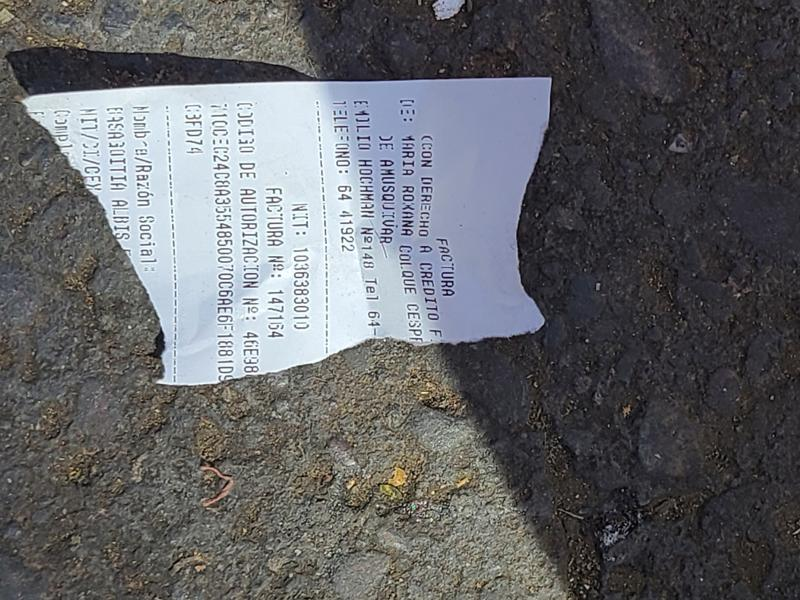papel: (22, 76, 553, 388)
